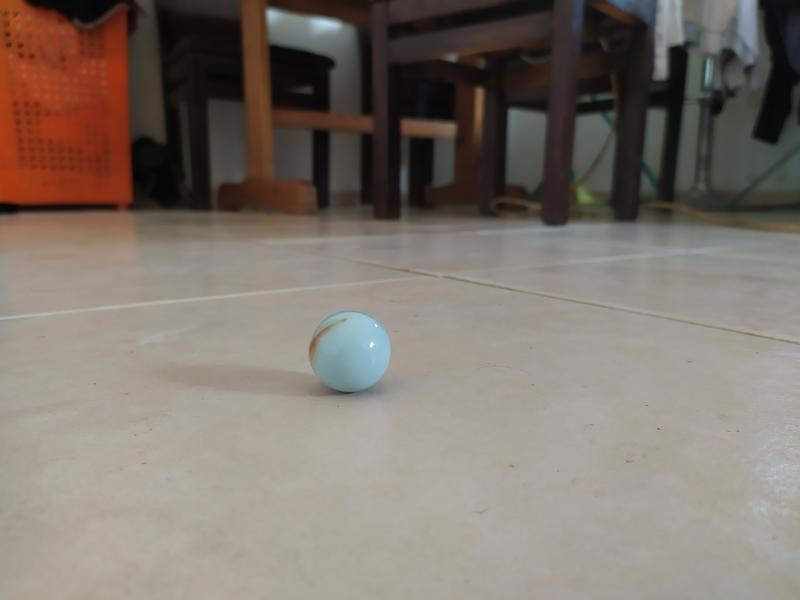Warning: (306, 308, 394, 395)
